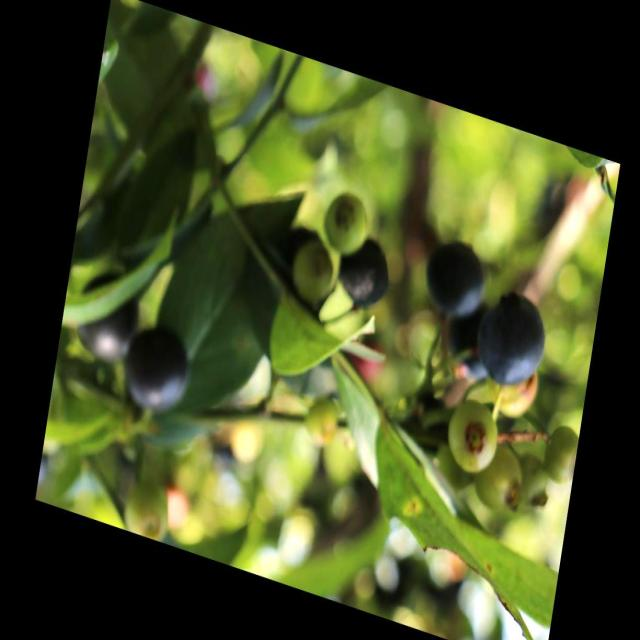blueberry: (472, 282, 552, 400), (69, 262, 142, 371), (120, 318, 194, 421), (419, 234, 488, 327), (334, 233, 395, 314)
blueberry-unripe: (442, 396, 502, 478), (471, 435, 526, 518), (322, 189, 371, 266), (287, 234, 336, 306), (535, 418, 579, 488), (301, 389, 343, 449)
